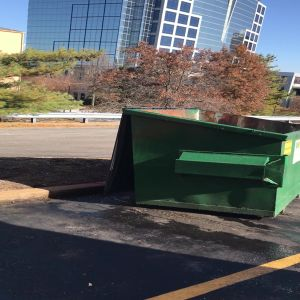Dumpster: (104, 104, 300, 220)
